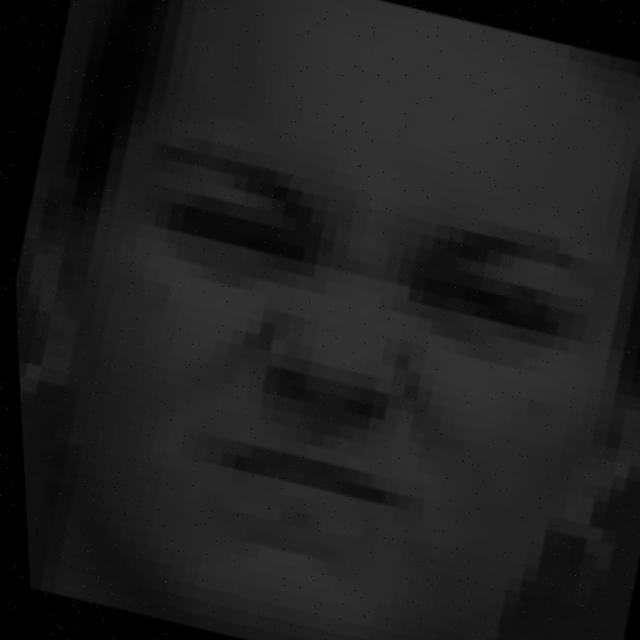Disgust: (27, 40, 640, 626)
